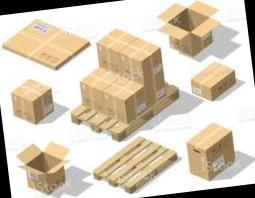cardboard: (146, 0, 225, 59), (171, 118, 238, 187), (1, 72, 65, 130), (10, 137, 70, 197), (182, 51, 242, 106)
